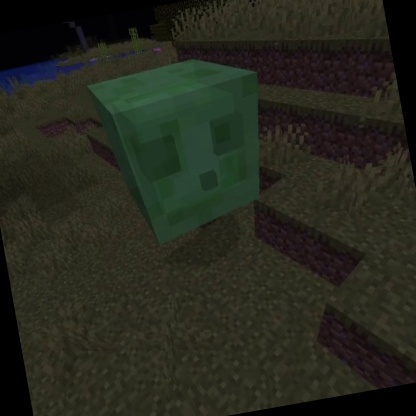slime: (81, 42, 292, 259)
